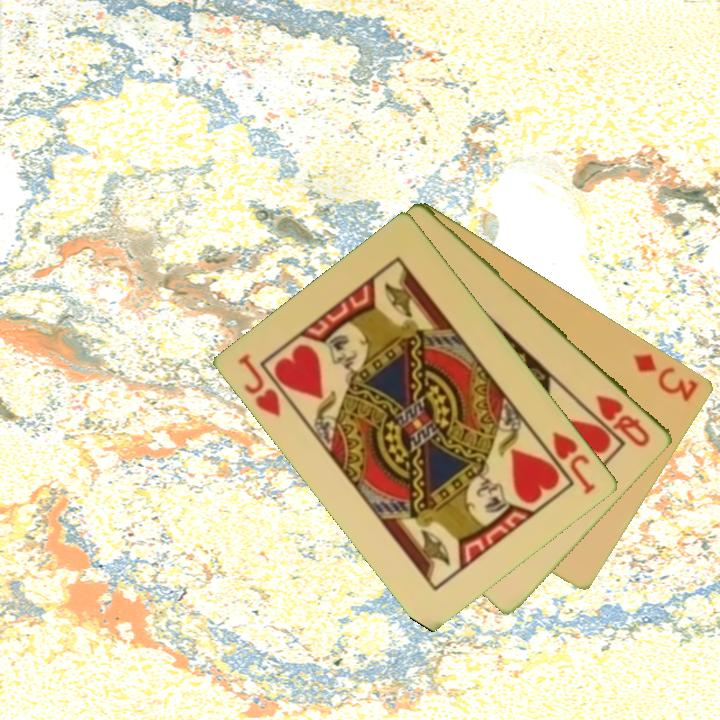3d: (630, 350, 701, 405)
Jh: (535, 428, 600, 497), (235, 349, 285, 420)
Qh: (593, 391, 654, 450)
